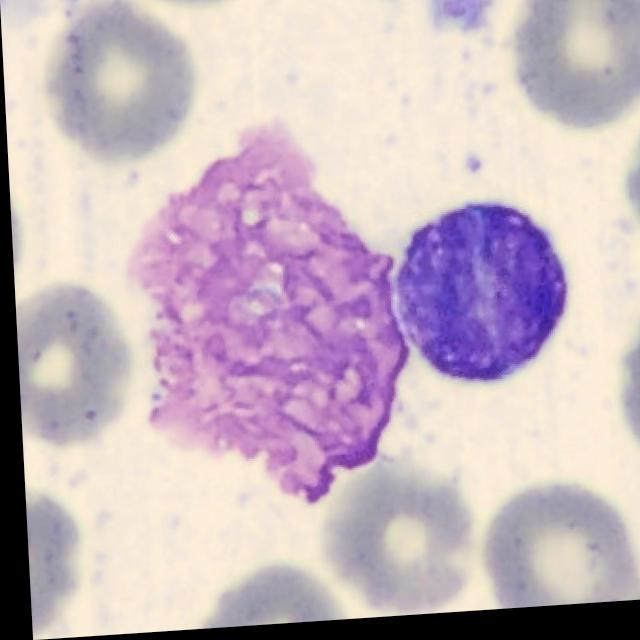Linfocito: (390, 210, 565, 391)
